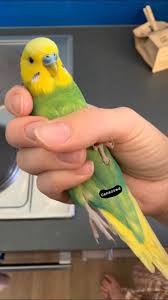budgie: (15, 38, 88, 116)
